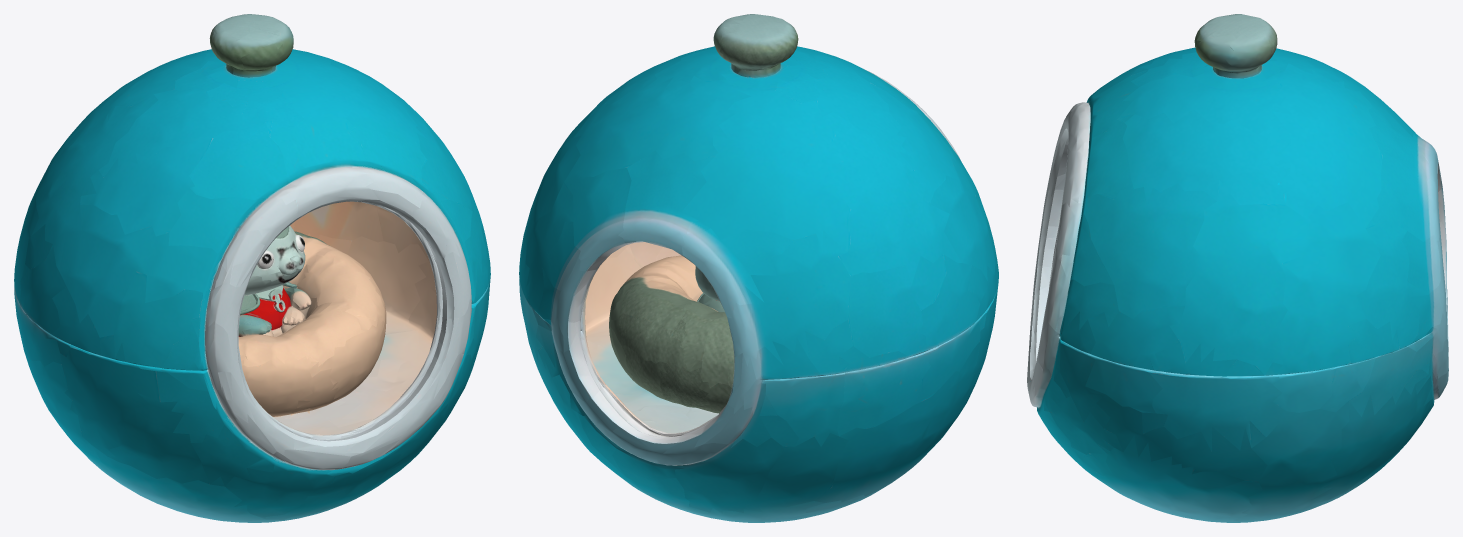
The model's file is rescuePod.93ce632d.glb.
The picture shows the model from 3 angles, left to right: view 1: azimuth 30°, elevation 25°; view 2: azimuth 150°, elevation 25°; view 3: azimuth 270°, elevation 25°; orthographic projection.
Parts seen in each view (by area): view 1: output_unwrapped; view 2: output_unwrapped; view 3: output_unwrapped.
Part boxes in pixels (x1,y1,x2,y2): output_unwrapped: (14,14,490,522); output_unwrapped: (519,14,998,522); output_unwrapped: (1027,14,1448,522).
Size of the model in its own units: 1.75 by 1.9 by 1.53.
1 material, 1 textured.
